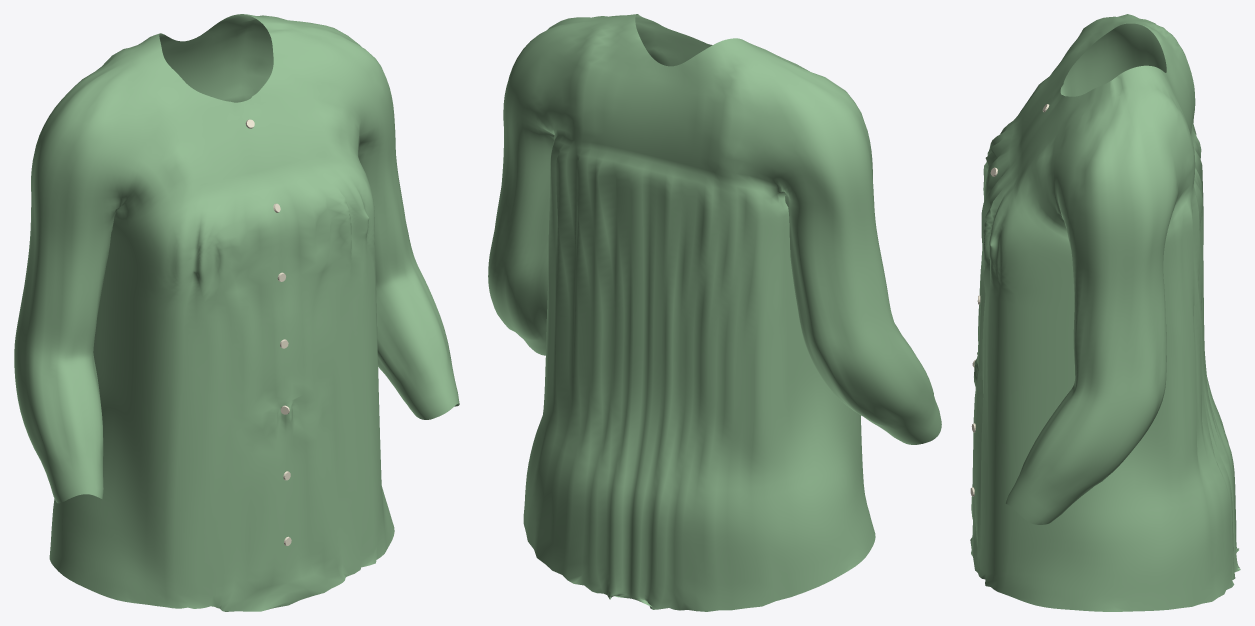
Rendered from blouse-female.glb.
The picture shows the model from 3 angles, left to right: view 1: azimuth 30°, elevation 25°; view 2: azimuth 150°, elevation 25°; view 3: azimuth 270°, elevation 25°; orthographic projection. The views are drawn at different scales.
Parts seen in each view (by area): view 1: Shirt_Web; view 2: Shirt_Web; view 3: Shirt_Web.
Part boxes in pixels (left/top/right/bottom): Shirt_Web: left=14, top=14, right=459, bottom=611; Shirt_Web: left=488, top=14, right=941, bottom=611; Shirt_Web: left=970, top=14, right=1240, bottom=611.
Size of the model in its own units: 0.5411 by 0.6674 by 0.3163.
